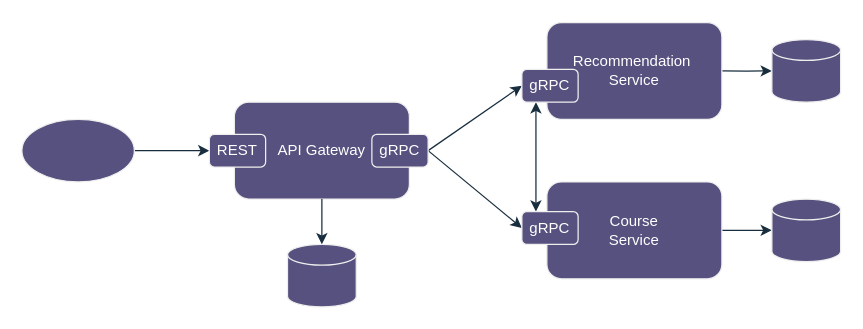
Image size: 863x329. Some labels were removed from this diagram. The centre of each missing label's shape, as x and y in pixels:
"Cache" goes at pixel 321 275.
"Client" goes at pixel 77 150.
"CourseDB" goes at pixel 806 230.
"RecDB" goes at pixel 806 70.
